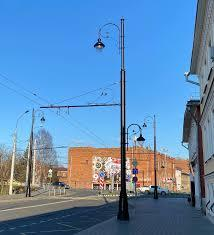Animal: (93, 12, 146, 234), (27, 107, 46, 195), (147, 110, 165, 200), (8, 103, 26, 192)
